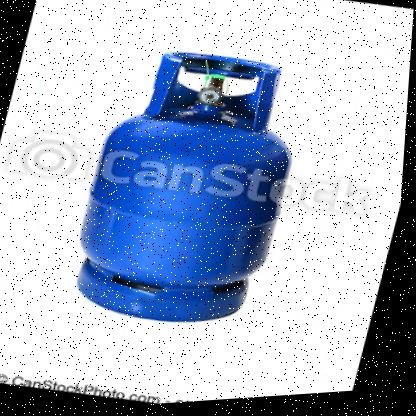gas-tank: (49, 18, 336, 356)
